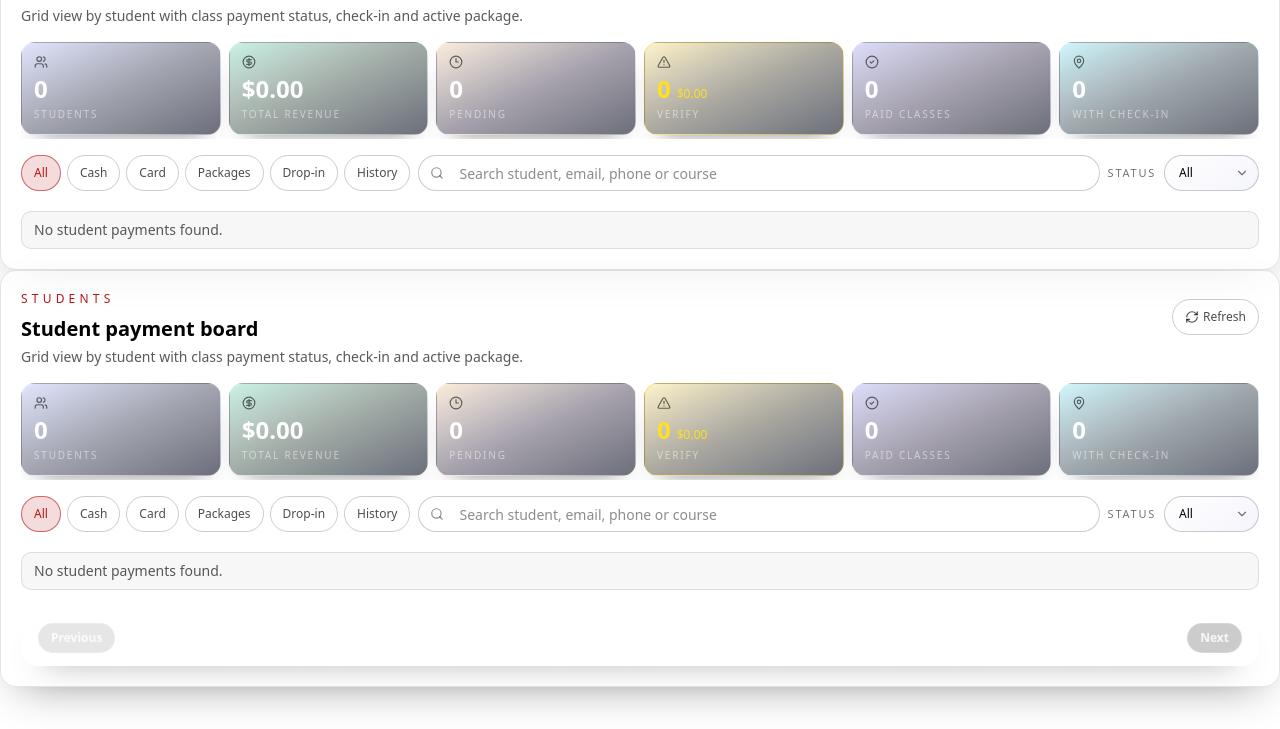
Scenario: StaffStudentsBoardPanel › wires pagination Previous/Next buttons and respects boundaries
The image size is (1280, 729).
Check: the button "Previous" is disabled, box [38,623,115,653]
Click the button "Next" at (1215, 638), box [1187,623,1242,653]
(page scrolled)
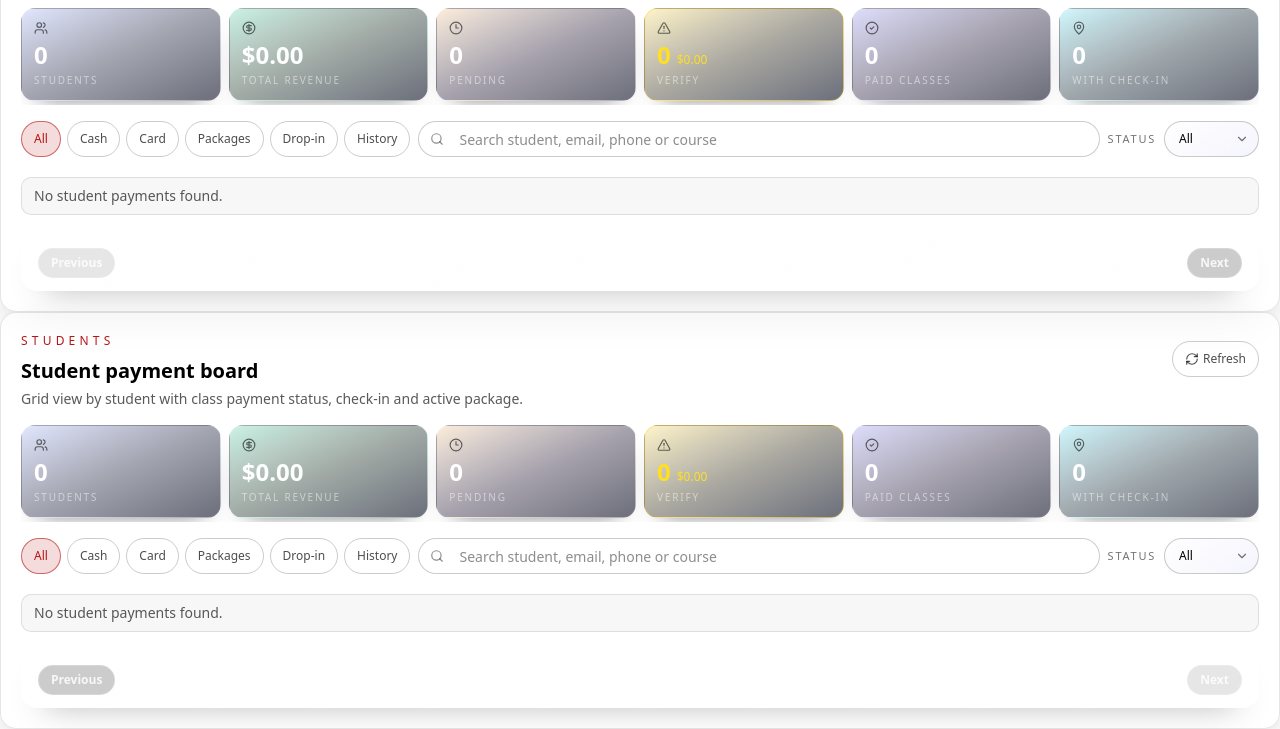
Check: the 2nd button "Next" is disabled, box [1187,665,1242,695]
